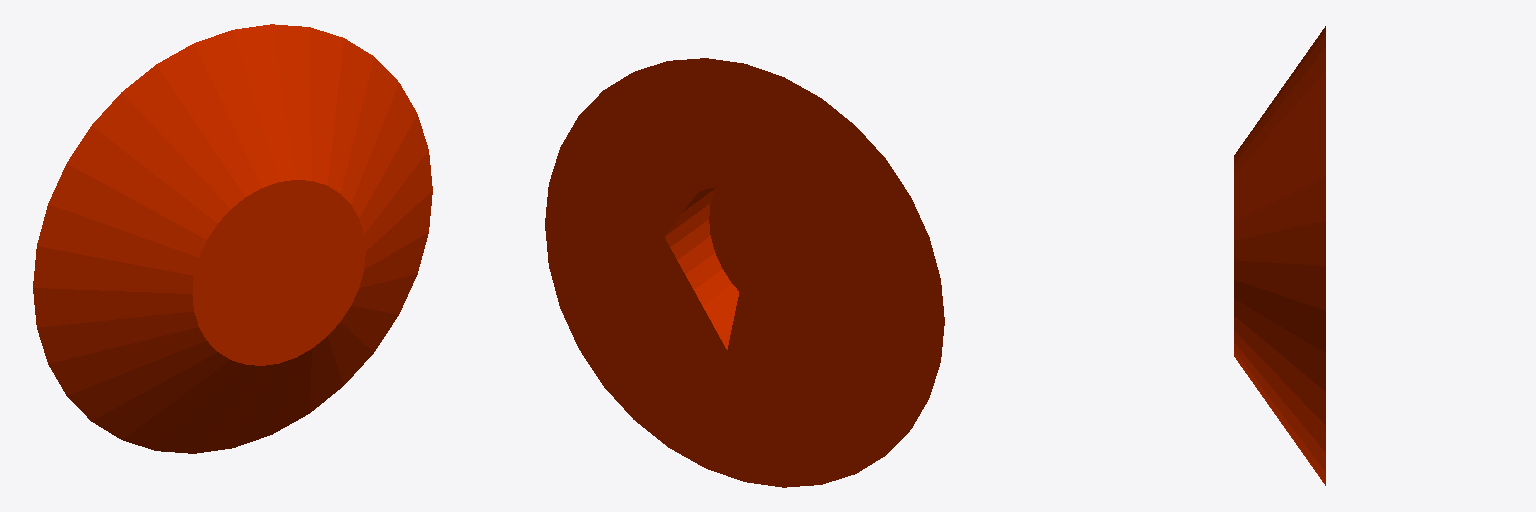
The model's file is markerCone.obj.
The picture shows the model from 3 angles: view 1: azimuth 30°, elevation 25°; view 2: azimuth 150°, elevation 25°; view 3: azimuth 270°, elevation 25°; orthographic projection.
Visible parts, largest first — view 1: Cylinder; view 2: Cylinder; view 3: Cylinder.
Part boxes in pixels (bbox=[...]): Cylinder: bbox=[33, 24, 432, 453]; Cylinder: bbox=[545, 58, 944, 487]; Cylinder: bbox=[1234, 26, 1325, 485].
Size of the model in its own units: 1 by 1 by 0.2.